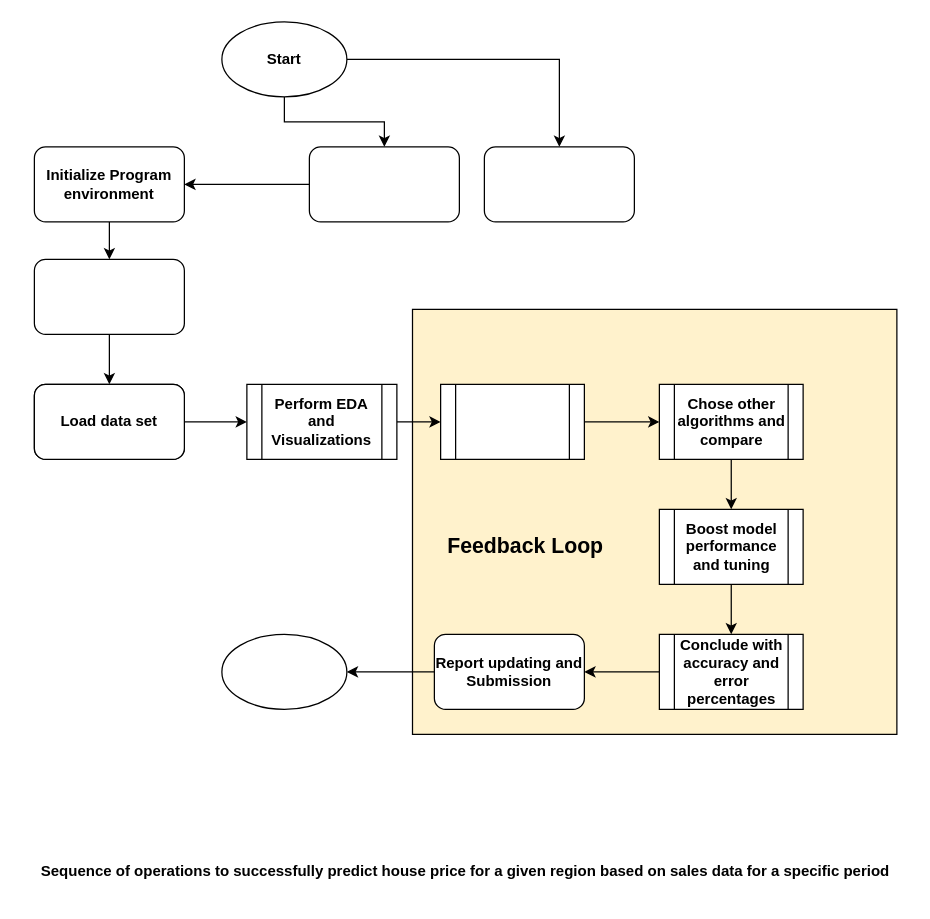
Some shapes in this 930 by 919 pixel diagram are drawn without their labels. The shapes that lost their labels are listed below. From the top down, each one's box as (x1, y1, x2, y2) in pixels, then its label:
(308, 146, 459, 222): Understand Problem Description and Dataset
(483, 146, 634, 222): Initialize Project Report
(33, 258, 184, 334): Load all required libraries
(439, 383, 584, 459): Baseline Model (Linear Regression)
(221, 633, 347, 709): End
